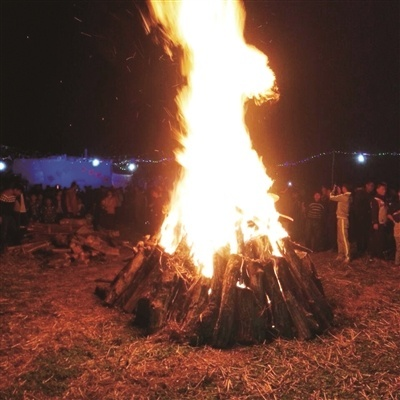fire: (161, 0, 294, 272)
